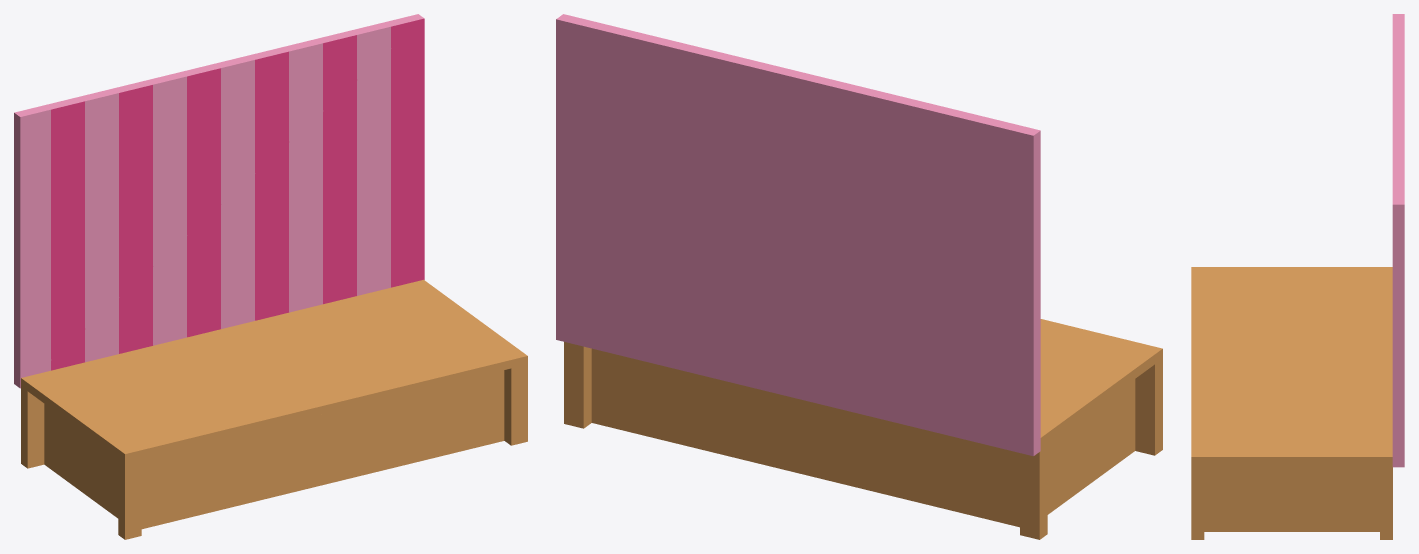
The model's file is DIY_Template_models.fbx.
3 renders of one model, left to right at view 1: azimuth 30°, elevation 25°; view 2: azimuth 150°, elevation 25°; view 3: azimuth 270°, elevation 25°, orthographic. The views are drawn at different scales.
Parts seen in each view (by area): view 1: Wall, Table; view 2: Wall, Table; view 3: Table, Wall.
Part boxes in pixels (box(x1,y1,x2,y2)): Wall: box(14, 14, 424, 388); Table: box(21, 279, 527, 539); Wall: box(556, 14, 1040, 456); Table: box(564, 319, 1162, 539); Table: box(1191, 267, 1392, 539); Wall: box(1392, 14, 1404, 467).
Size of the model in its own units: 3513 by 2880 by 1659.
